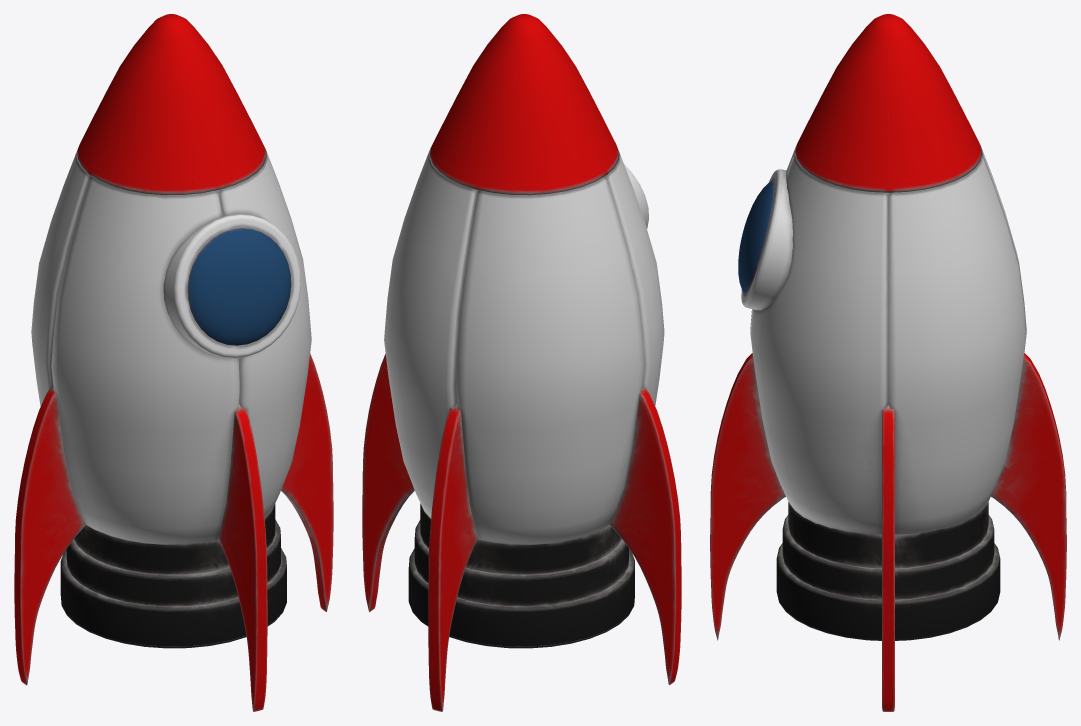
The model's file is moms_toy.fbx.
The picture shows the model from 3 angles, left to right: view 1: azimuth 30°, elevation 25°; view 2: azimuth 150°, elevation 25°; view 3: azimuth 270°, elevation 25°; orthographic projection.
Parts seen in each view (by area): view 1: Toy Rocket; view 2: Toy Rocket; view 3: Toy Rocket.
Part boxes in pixels (x1,y1,x2,y2): Toy Rocket: (14, 14, 333, 711); Toy Rocket: (362, 14, 681, 711); Toy Rocket: (710, 14, 1066, 711).
Size of the model in its own units: 10.42 by 20.02 by 10.42.
